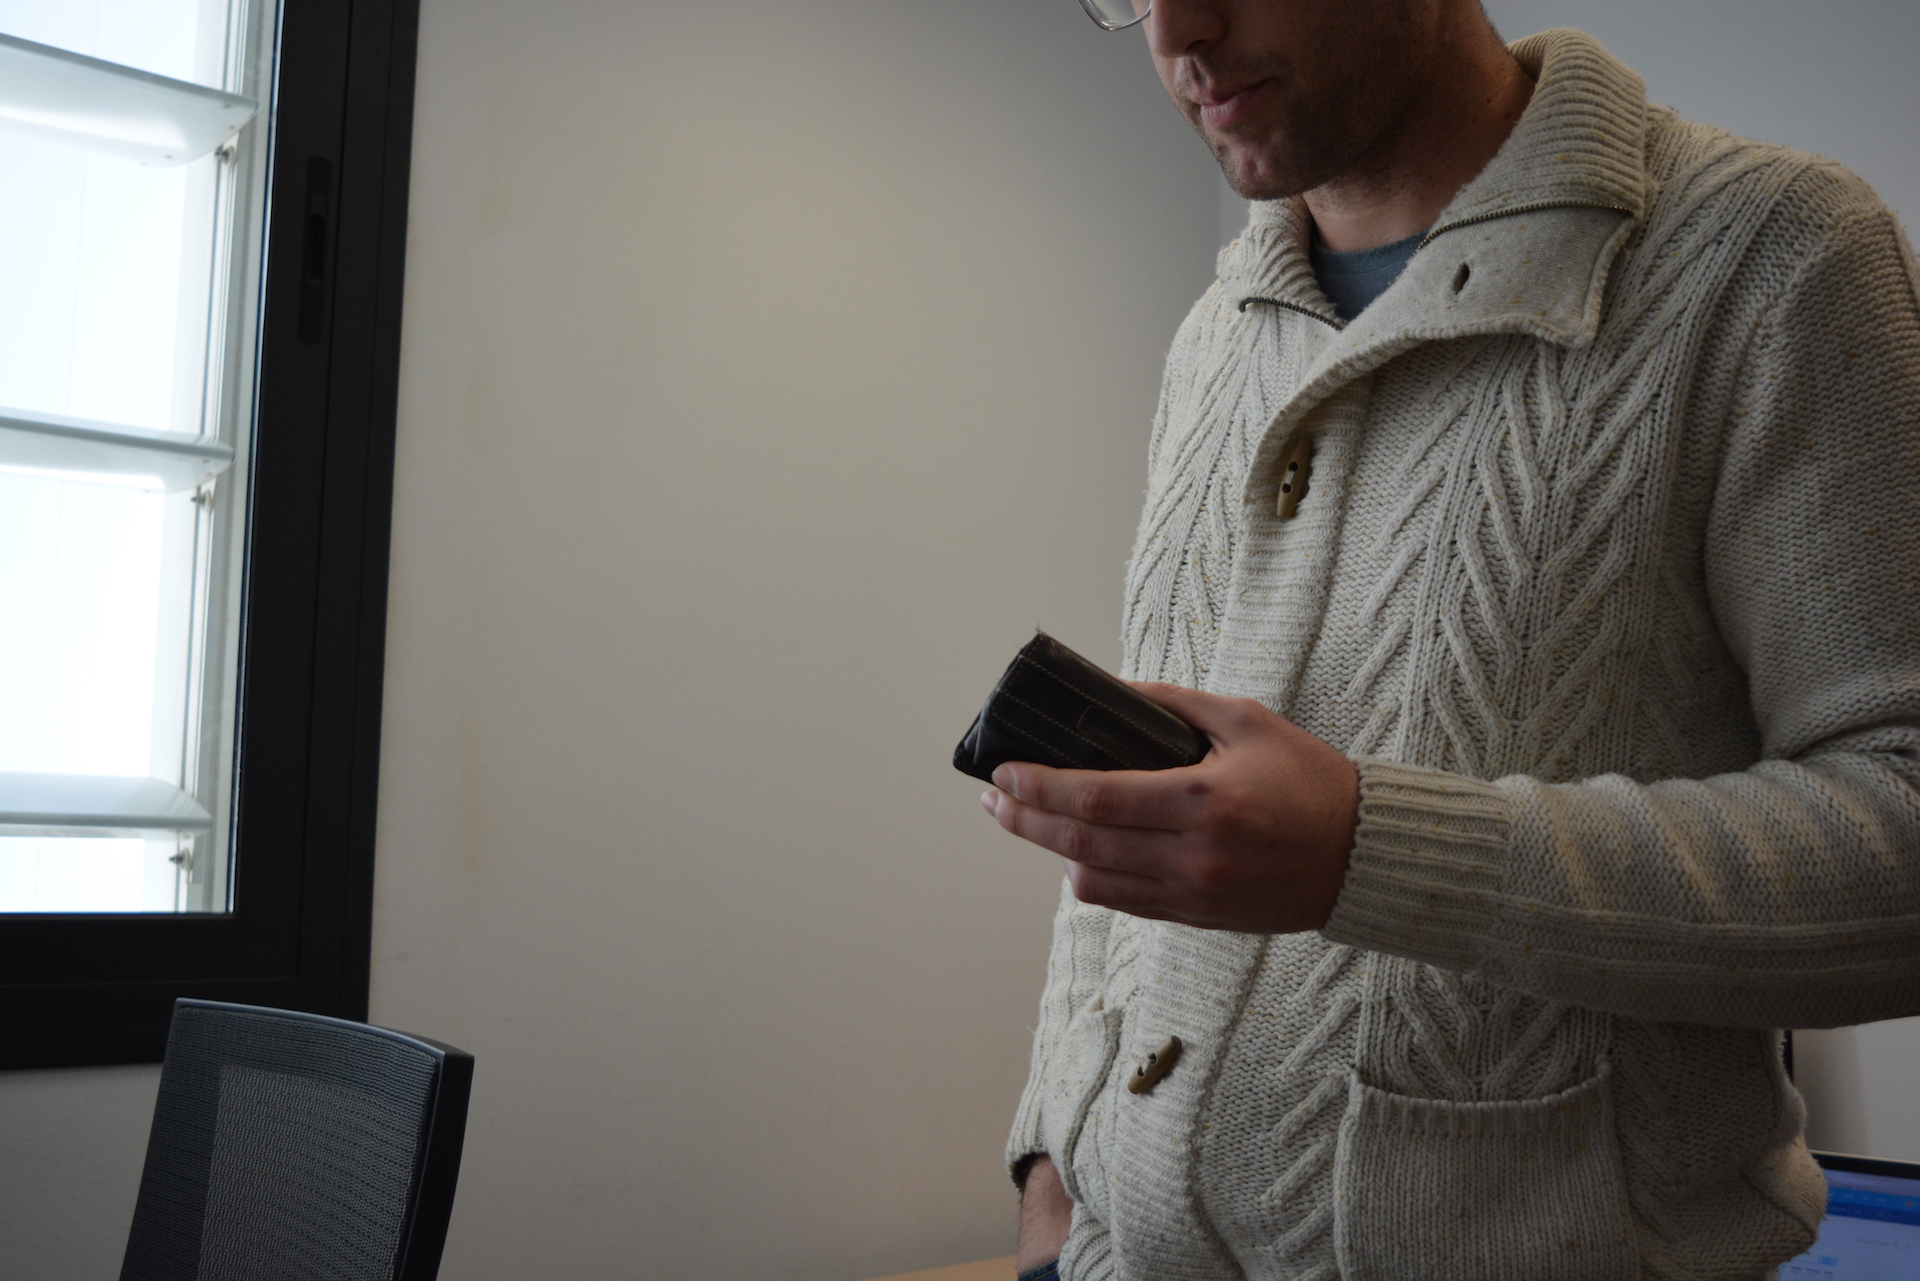monedero: (951, 628, 1215, 796)
